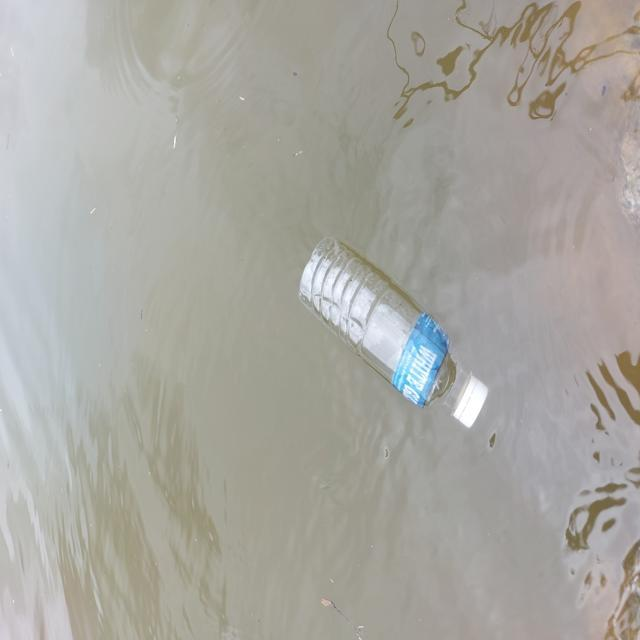waterbottle: (292, 224, 504, 437)
